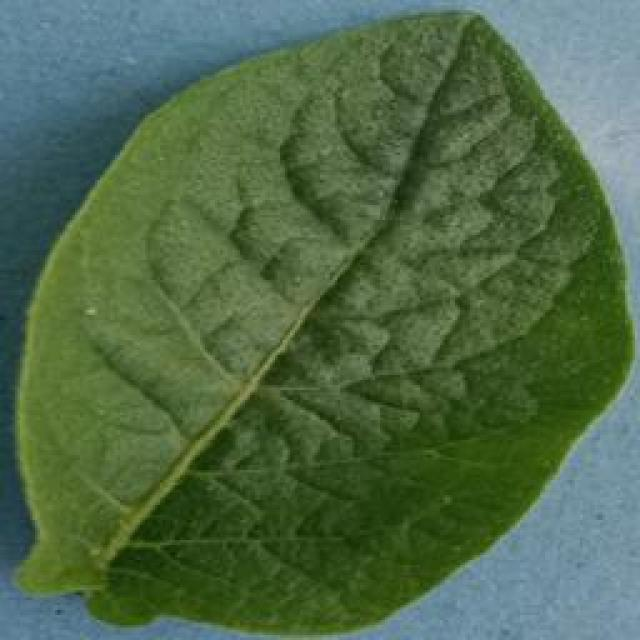Potato_Healthy: (11, 10, 624, 631)
